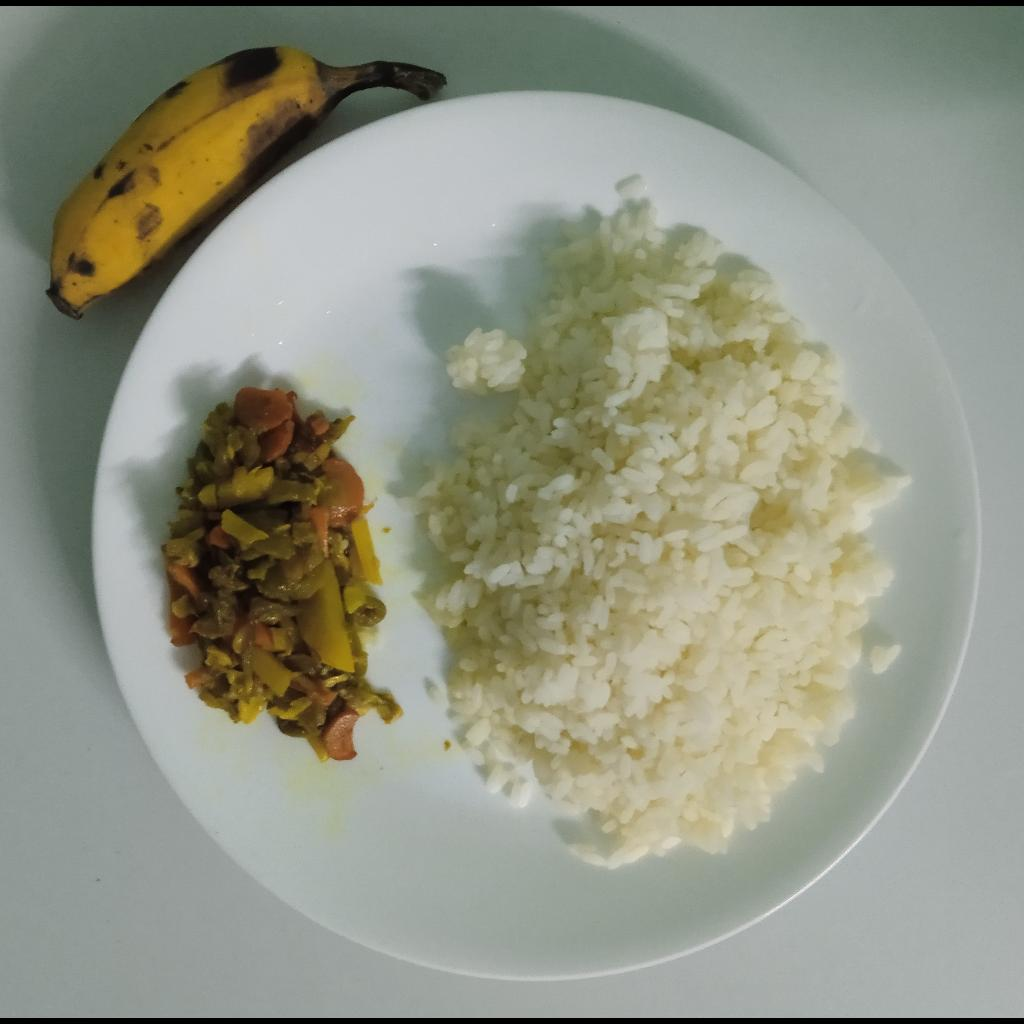banana: (44, 46, 447, 323)
rice: (402, 179, 905, 870)
vegetable: (160, 385, 405, 762)
